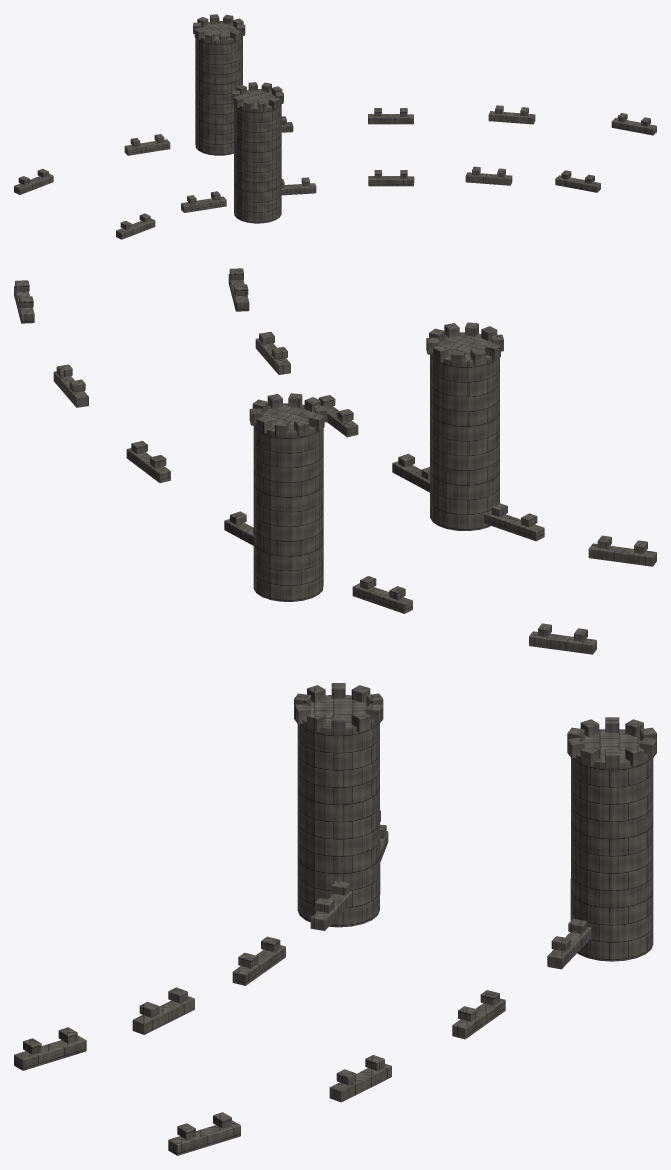
The model's file is Sector3_CitadelStone_1.fbx.
The picture shows the model from 3 angles, top to bottom: view 1: azimuth 30°, elevation 25°; view 2: azimuth 150°, elevation 25°; view 3: azimuth 270°, elevation 25°; orthographic projection. The views are drawn at different scales.
Parts seen in each view (by area): view 1: Sector3_CitadelStone_1; view 2: Sector3_CitadelStone_1; view 3: Sector3_CitadelStone_1.
Boxes of the visible parts, left/top/right/bottom form: Sector3_CitadelStone_1: left=14, top=14, right=656, bottom=239; Sector3_CitadelStone_1: left=14, top=268, right=656, bottom=654; Sector3_CitadelStone_1: left=14, top=683, right=656, bottom=1155.
Bounding box in the file's own units: 32587 × 7250 × 20289.
Materials: 1 (1 with a texture image).
